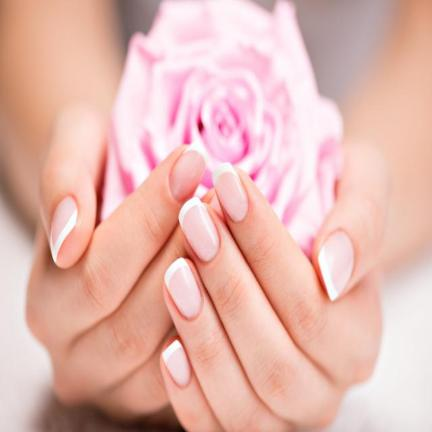Nail: (179, 197, 220, 262), (169, 140, 211, 203), (318, 232, 355, 302), (164, 257, 203, 320), (212, 163, 249, 222), (50, 196, 77, 264), (162, 340, 191, 387)
